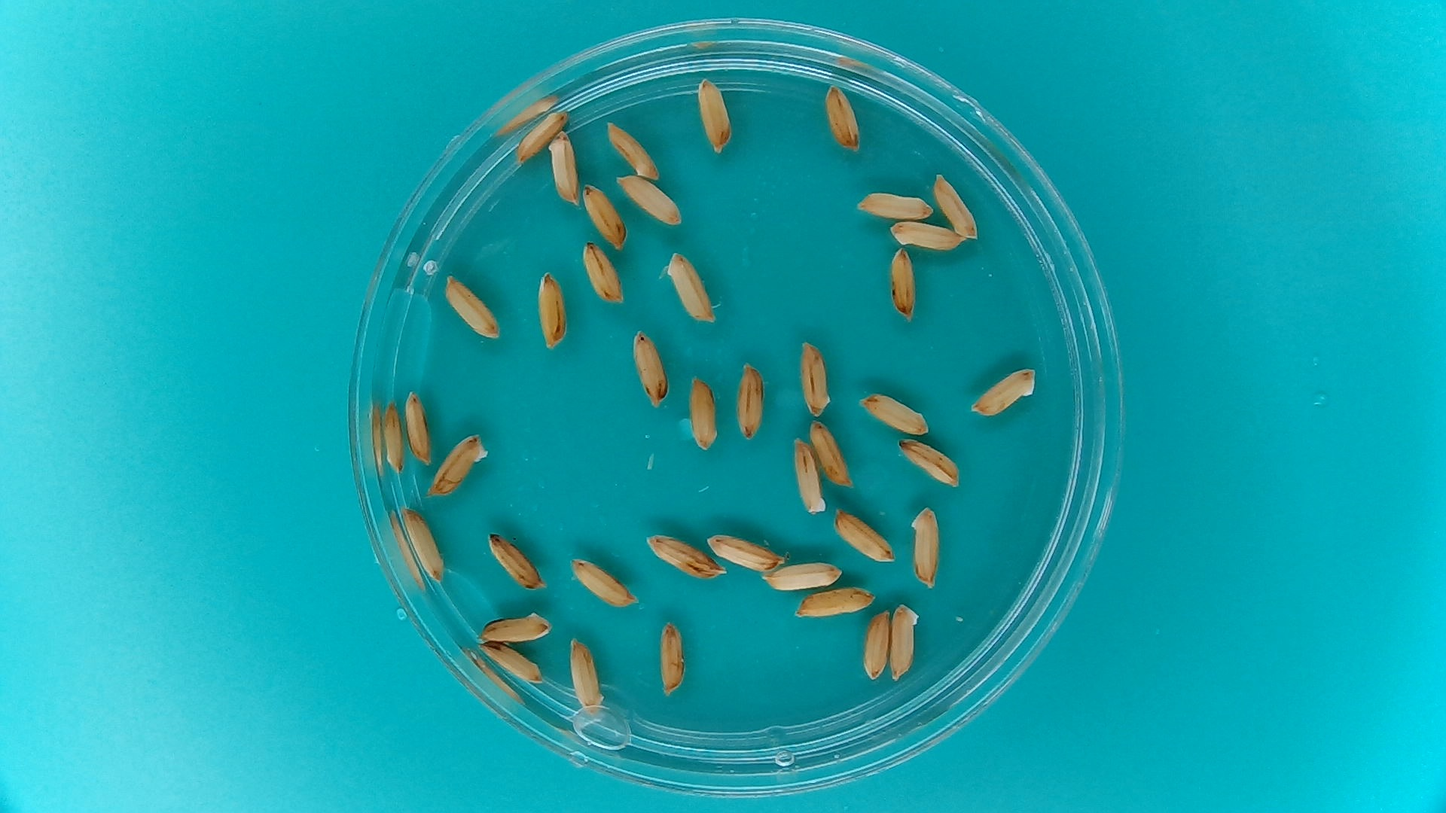no: (965, 361, 1046, 419), (641, 530, 727, 580), (442, 273, 503, 341), (484, 529, 548, 592), (566, 554, 639, 609), (398, 504, 447, 585), (665, 249, 717, 324), (421, 432, 482, 495), (832, 506, 897, 564), (895, 436, 963, 489), (615, 174, 684, 226), (604, 118, 660, 180), (931, 170, 979, 242), (857, 391, 932, 436), (704, 531, 786, 572), (580, 181, 627, 252), (807, 417, 853, 489), (630, 328, 671, 408), (513, 108, 571, 164), (695, 74, 734, 157), (566, 634, 606, 714), (477, 640, 545, 687), (820, 80, 863, 153), (908, 504, 944, 591), (795, 583, 877, 620), (579, 239, 625, 304), (476, 607, 555, 644), (733, 359, 767, 443), (791, 437, 826, 518), (797, 338, 832, 419), (535, 269, 569, 351), (547, 128, 582, 207), (687, 372, 721, 453), (888, 601, 920, 684), (888, 218, 966, 252), (761, 559, 843, 591), (887, 245, 920, 324), (655, 617, 687, 697), (854, 190, 935, 221), (860, 607, 891, 684), (403, 388, 432, 467), (382, 397, 406, 473)
